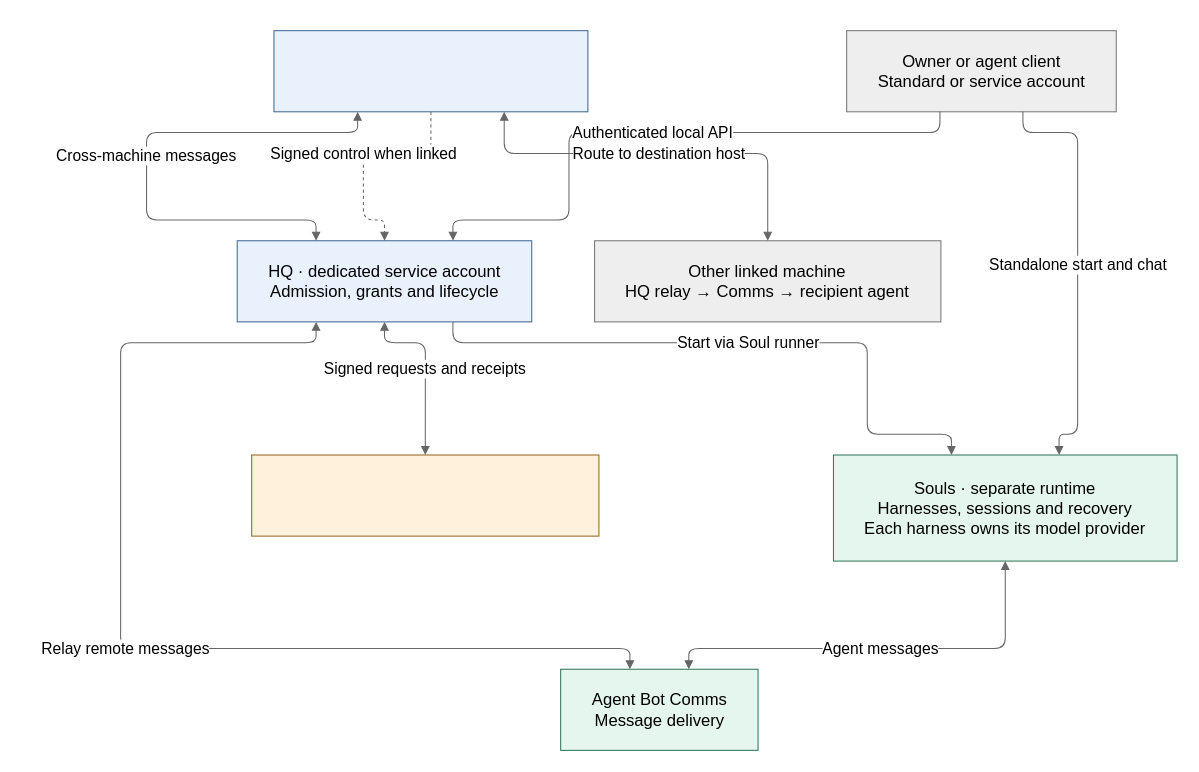
Some shapes in this 1199 by 772 pixel diagram are drawn without their labels. The shapes that lost their labels are listed below. From the top down, each one's box as (x1, y1, x2, y2) in pixels, then its label:
(273, 30, 588, 112): Harbor · optional cloud service Fleet control and message routing
(251, 454, 599, 536): Machine · Homebrew admin Catalog, keys and protected resources
